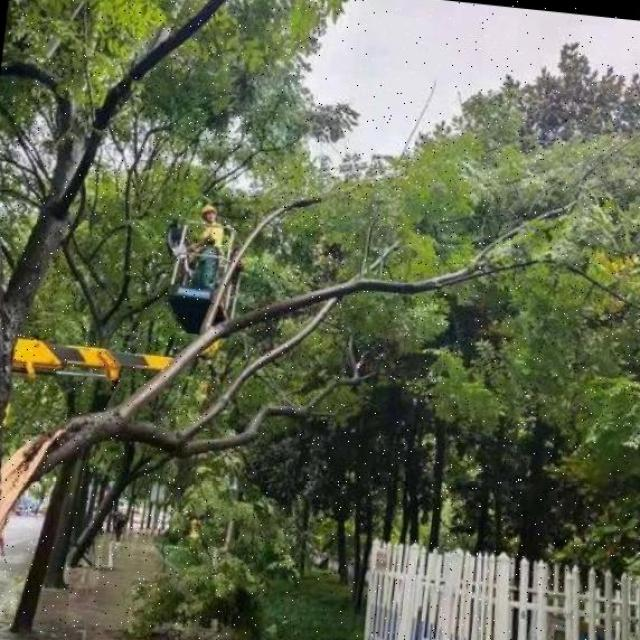fallen_object: (0, 156, 550, 618)
